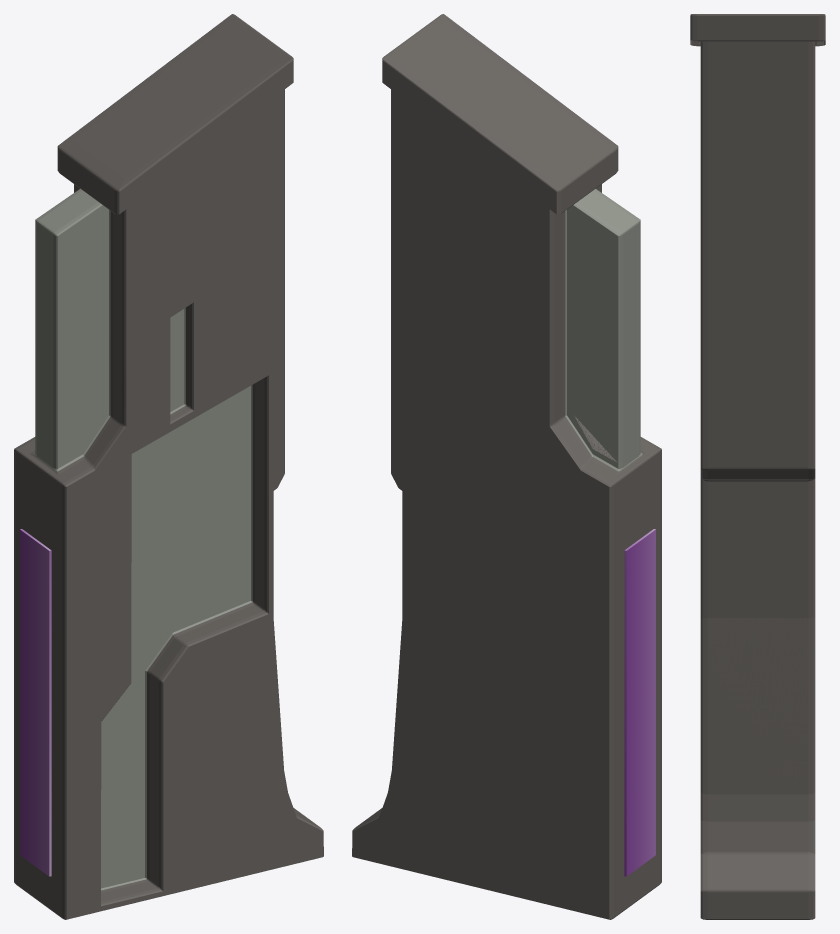
Rendered from skyscraper_02.fbx.
3 renders of one model, left to right at view 1: azimuth 30°, elevation 25°; view 2: azimuth 150°, elevation 25°; view 3: azimuth 270°, elevation 25°, orthographic. The views are drawn at different scales.
Parts seen in each view (by area): view 1: Skyscraper_02.1, Skyscraper_02.2; view 2: Skyscraper_02.1, Skyscraper_02.2; view 3: Skyscraper_02.1.
Boxes of the visible parts, <box> form: Skyscraper_02.1: <box>14,14,323,919</box>; Skyscraper_02.2: <box>20,529,51,876</box>; Skyscraper_02.1: <box>352,14,661,919</box>; Skyscraper_02.2: <box>624,529,655,876</box>; Skyscraper_02.1: <box>690,14,825,919</box>.
Size of the model in its own units: 2334 by 6845 by 945.
